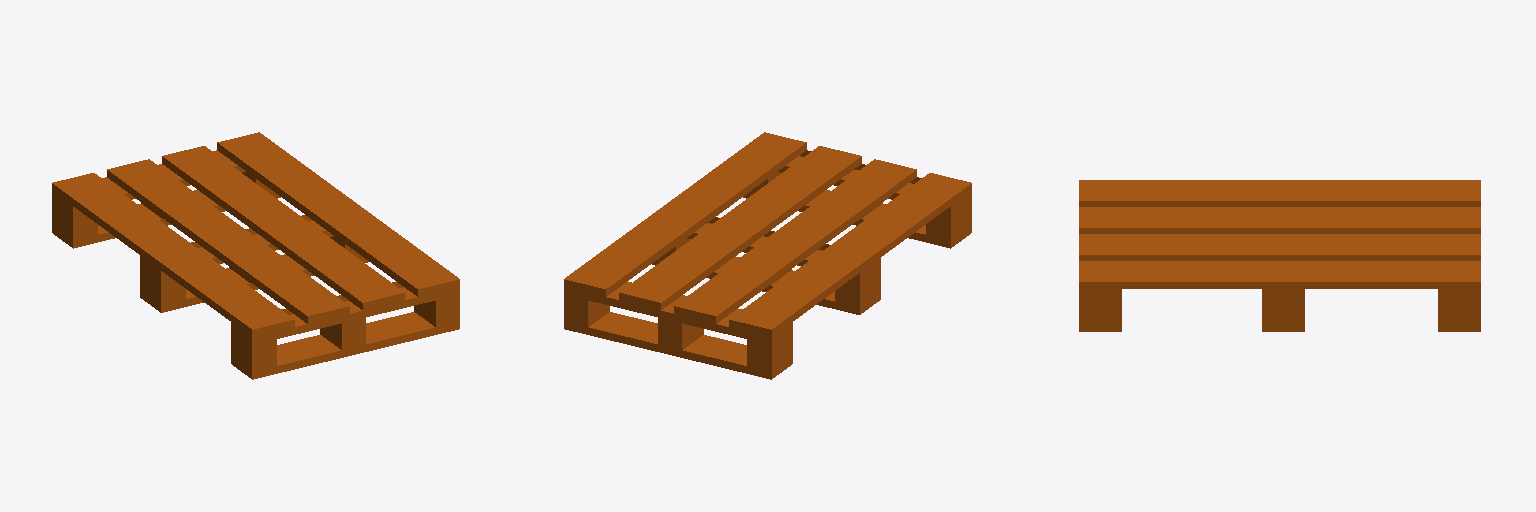
The model's file is palette.obj.
3 views of the same model, side by side, from view 1: azimuth 30°, elevation 25°; view 2: azimuth 150°, elevation 25°; view 3: azimuth 270°, elevation 25° (orthographic).
Parts seen in each view (by area): view 1: Plane.000; view 2: Plane.000; view 3: Plane.000.
Part boxes in pixels (x1,y1,x2,y2): Plane.000: (52,132,459,379); Plane.000: (564,132,971,379); Plane.000: (1079,180,1480,331).
Bounding box in the file's own units: 1.02 × 0.2343 × 1.71.